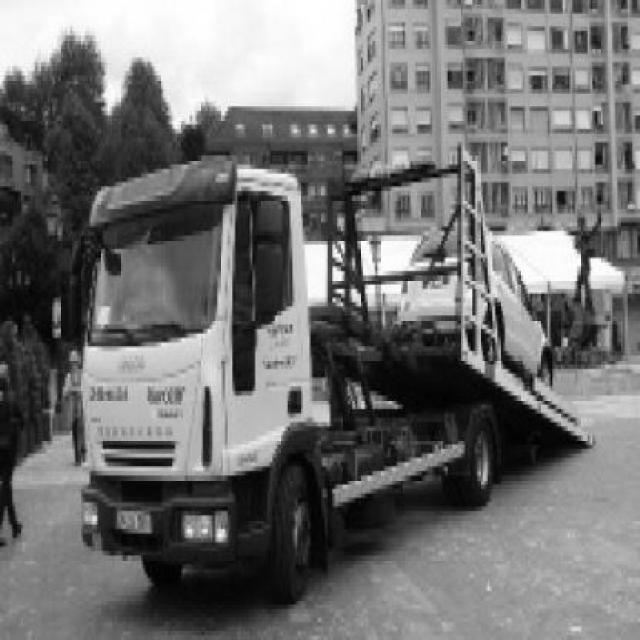Tow Truck: (81, 149, 596, 608)
